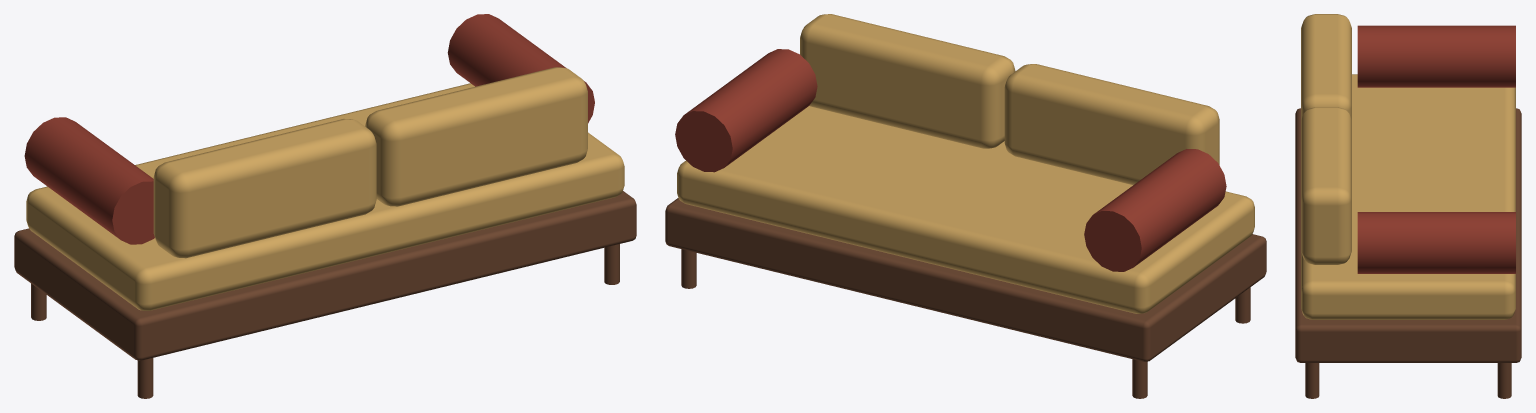
3 renders of one model, left to right at view 1: azimuth 30°, elevation 25°; view 2: azimuth 150°, elevation 25°; view 3: azimuth 270°, elevation 25°, orthographic. The views are drawn at different scales.
Visible parts, largest first — view 1: mattress, leg-1, bolster-left; view 2: mattress, leg-1, bolster-left; view 3: mattress, bolster-left, leg-1.
Boxes of the visible parts, x1,y1,x2,y2 form: mattress: [26, 67, 624, 310]; leg-1: [14, 191, 636, 398]; bolster-left: [24, 14, 594, 244]; mattress: [677, 14, 1254, 313]; leg-1: [665, 198, 1266, 398]; bolster-left: [675, 49, 1226, 271]; mattress: [1301, 14, 1515, 319]; bolster-left: [1357, 25, 1515, 273]; leg-1: [1295, 108, 1521, 398].
Size of the model in its own units: 1.85 by 0.75 by 0.8.
